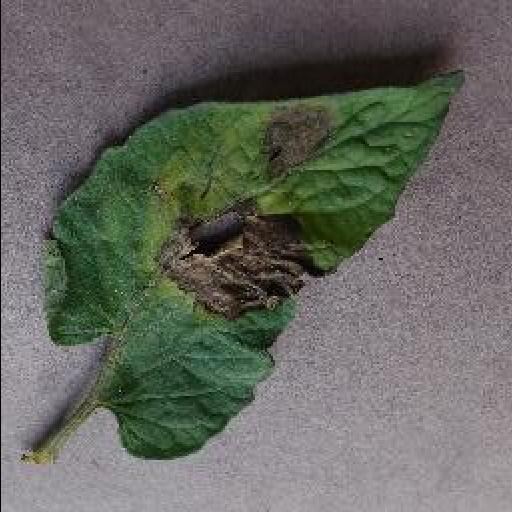disease_tomato: (40, 68, 470, 462)
